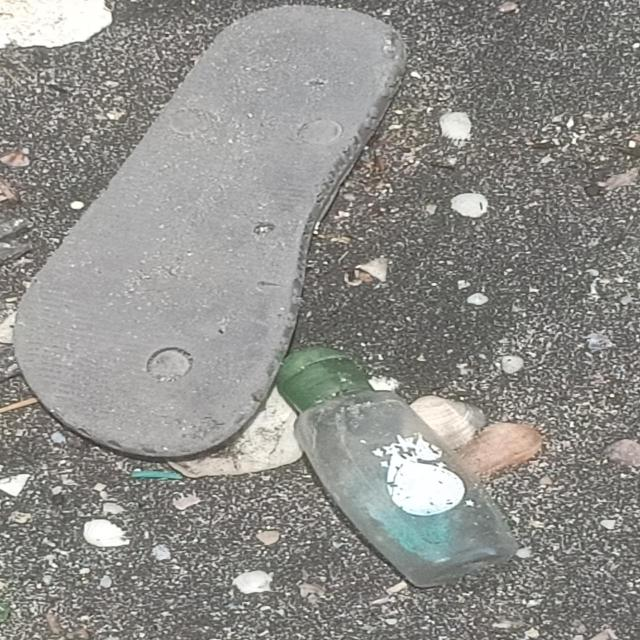plastic_waste: (275, 346, 524, 590)
rubber_waste: (9, 4, 413, 466)
